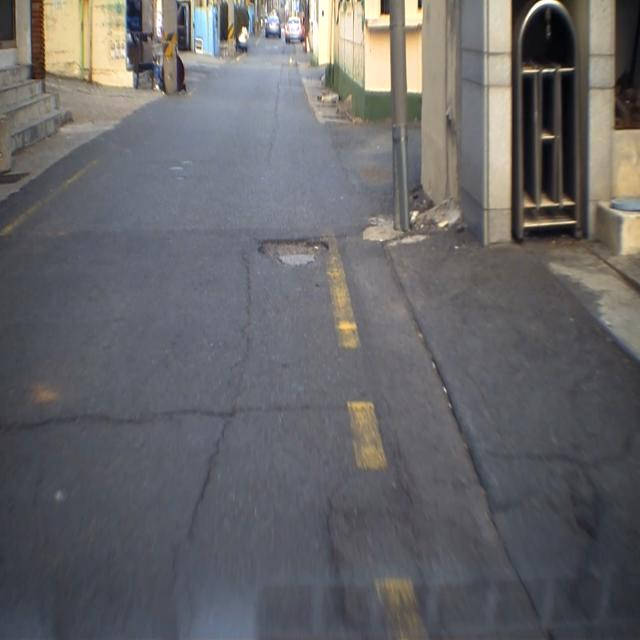Pothole: (253, 228, 331, 278)
